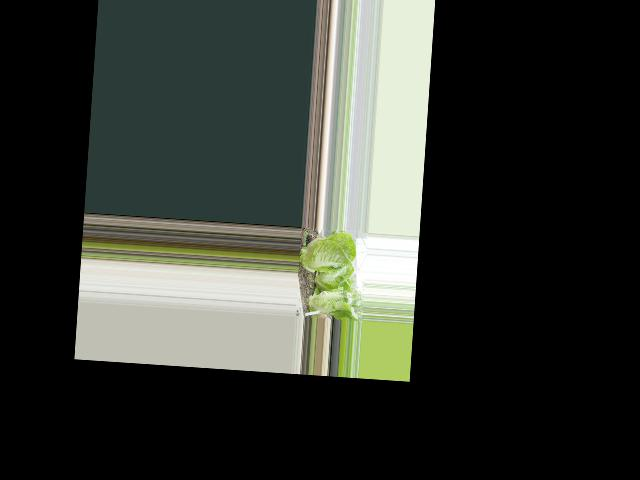lettuce: (300, 283, 358, 317)
